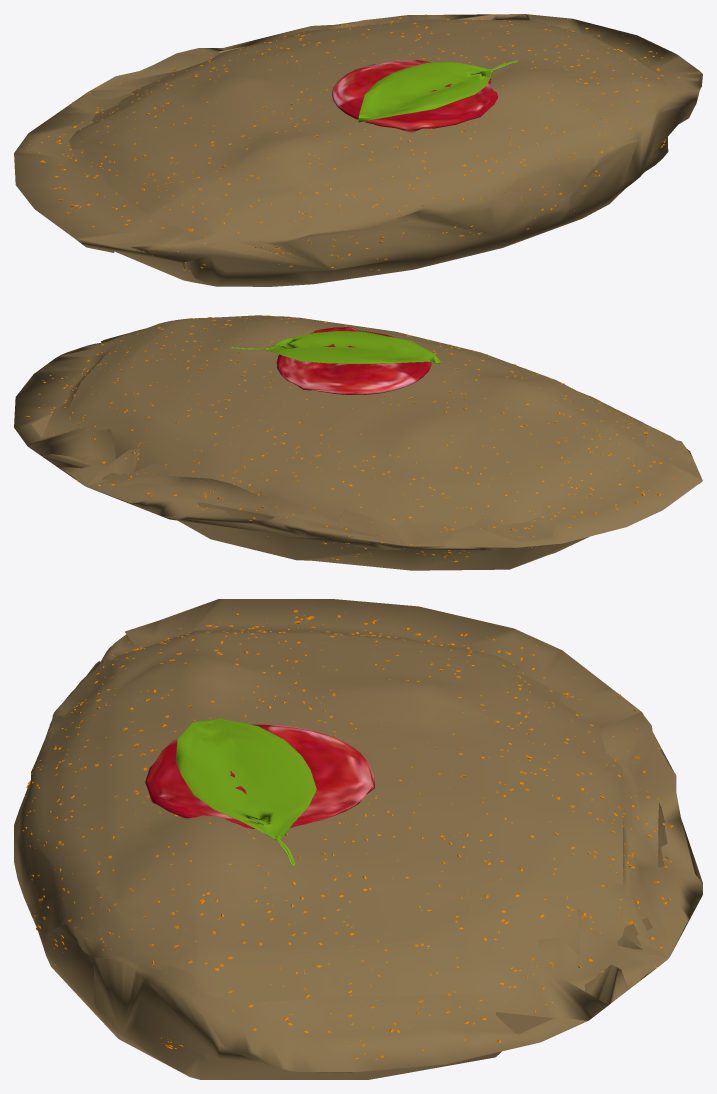
File: panzerotti2.fbx
The picture shows the model from 3 angles, top to bottom: view 1: azimuth 30°, elevation 25°; view 2: azimuth 150°, elevation 25°; view 3: azimuth 270°, elevation 25°; orthographic projection. The views are drawn at different scales.
Parts seen in each view (by area): view 1: Mball.001, Cube.001, Sphere; view 2: Mball.001, Sphere, Cube.001; view 3: Mball.001, Cube.001, Sphere.
Boxes of the visible parts, bbox=[...] form: Mball.001: bbox=[14, 14, 702, 286]; Cube.001: bbox=[358, 60, 518, 122]; Sphere: bbox=[331, 60, 497, 132]; Mball.001: bbox=[14, 315, 702, 570]; Sphere: bbox=[276, 327, 431, 394]; Cube.001: bbox=[230, 331, 441, 363]; Mball.001: bbox=[14, 599, 702, 1079]; Cube.001: bbox=[175, 718, 316, 865]; Sphere: bbox=[145, 724, 374, 828].
Size of the model in its own units: 191 by 40.81 by 122.
